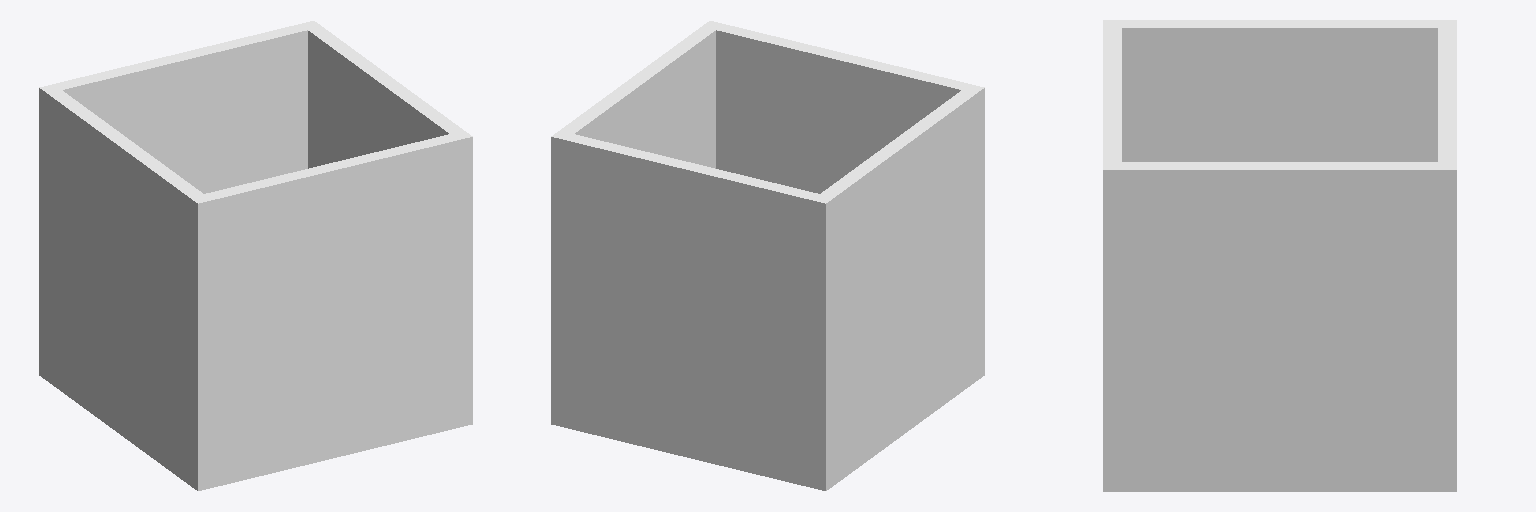
The robot description file, URDF, robot "shelf":
<?xml version="1.0" ?>
<!-- =================================================================================== -->
<!-- |    This document was autogenerated by xacro from panda_arm_hand.urdf.xacro      | -->
<!-- |    EDITING THIS FILE BY HAND IS NOT RECOMMENDED                                 | -->
<!-- =================================================================================== -->
<robot name="shelf" xmlns:xacro="http://www.ros.org/wiki/xacro">
  <link name="shelf_link">
    <visual>
      <geometry>
        <mesh filename="package://shelf/shelf.obj" scale="0.5 0.5 0.5"/>
      </geometry>
      <material name="panda_white"/>
    </visual>
    <collision concave="yes">
      <geometry>
        <mesh filename="package://shelf/shelf.obj" scale="0.5 0.5 0.5"/>
      </geometry>
      <material name="panda_white"/>
    </collision>
  </link>
  <material name="panda_white">
    <color rgba="1. 1. 1. 1."/>
  </material>
 </robot>

--- Render facts (derived) ---
3 views of the same robot in one strip: view 1: azimuth 30°, elevation 25°; view 2: azimuth 150°, elevation 25°; view 3: azimuth 270°, elevation 25° (orthographic).
Robot: shelf — 1 links, 0 joints (none); root link shelf_link; default pose: all joints at 0.
Links seen in each view (by area): view 1: shelf_link; view 2: shelf_link; view 3: shelf_link.
Link boxes in pixels (bbox=[...]): shelf_link: bbox=[39, 21, 472, 490]; shelf_link: bbox=[551, 21, 984, 490]; shelf_link: bbox=[1103, 20, 1456, 491].
Bounding box of the posed robot: 1 × 1 × 1 m (x, y, z).
1 mesh visuals loaded from 1 distinct referenced files (1 OBJ).